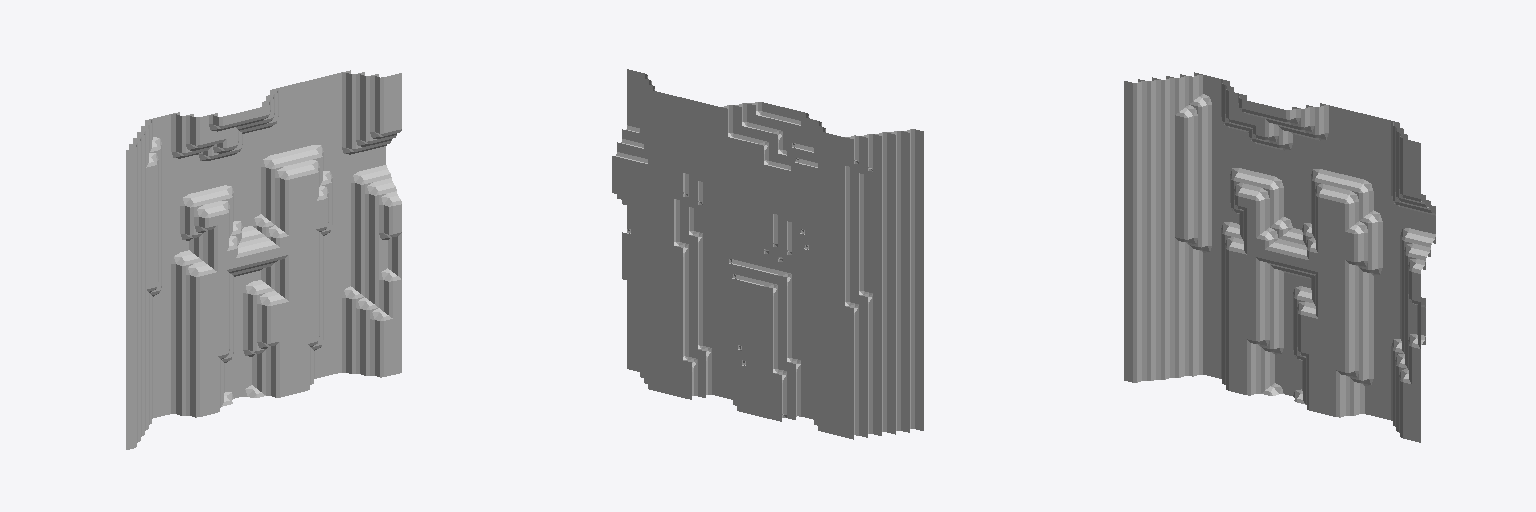
The model's file is Victory-Road-2_00_01.obj.
The picture shows the model from 3 angles: view 1: azimuth 30°, elevation 25°; view 2: azimuth 150°, elevation 25°; view 3: azimuth 330°, elevation 25°; orthographic projection.
Parts seen in each view (by area): view 1: map; view 2: map; view 3: map.
Part boxes in pixels (left/top/right/bottom): map: left=126, top=70, right=401, bottom=449; map: left=612, top=69, right=923, bottom=439; map: left=1124, top=72, right=1435, bottom=442.
Bounding box in the file's own units: 32 × 32 × 5.